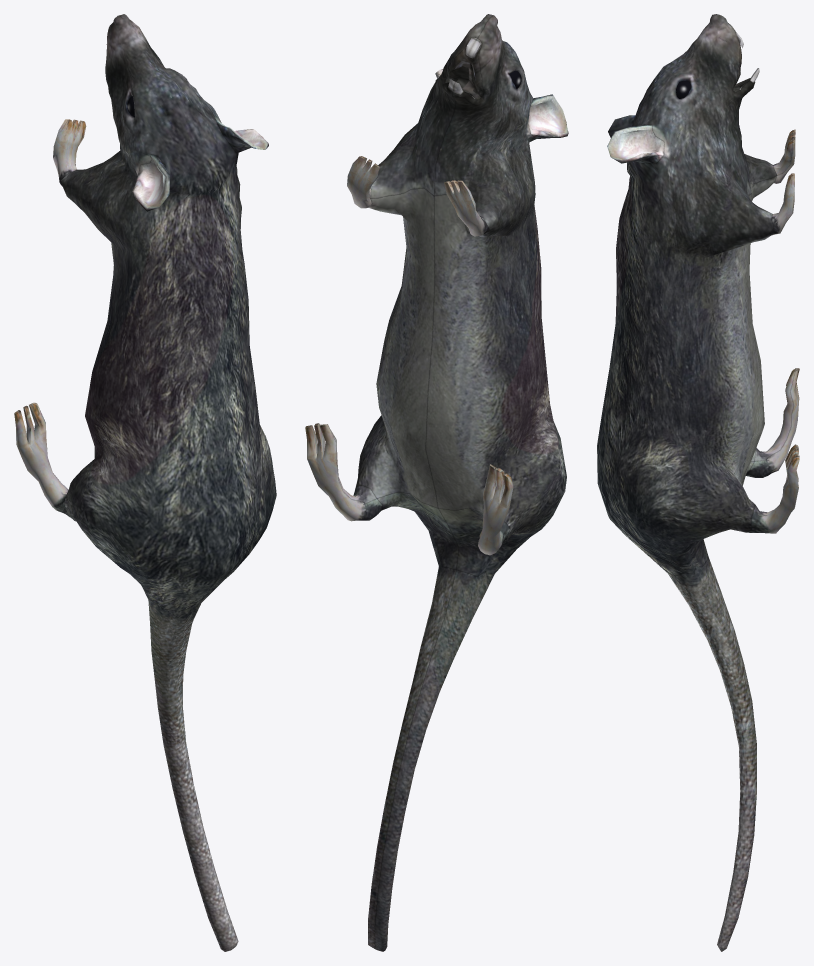
The model's file is rat.glb.
3 renders of one model, left to right at view 1: azimuth 30°, elevation 25°; view 2: azimuth 150°, elevation 25°; view 3: azimuth 270°, elevation 25°, orthographic. The views are drawn at different scales.
Parts seen in each view (by area): view 1: Object_8; view 2: Object_8; view 3: Object_8.
Boxes of the visible parts, left/top/right/bottom form: Object_8: left=14, top=14, right=276, bottom=951; Object_8: left=305, top=14, right=568, bottom=951; Object_8: left=597, top=14, right=799, bottom=951.
Bounding box in the file's own units: 2.24 × 9.99 × 2.07.
Materials: 1 (1 with a texture image).
